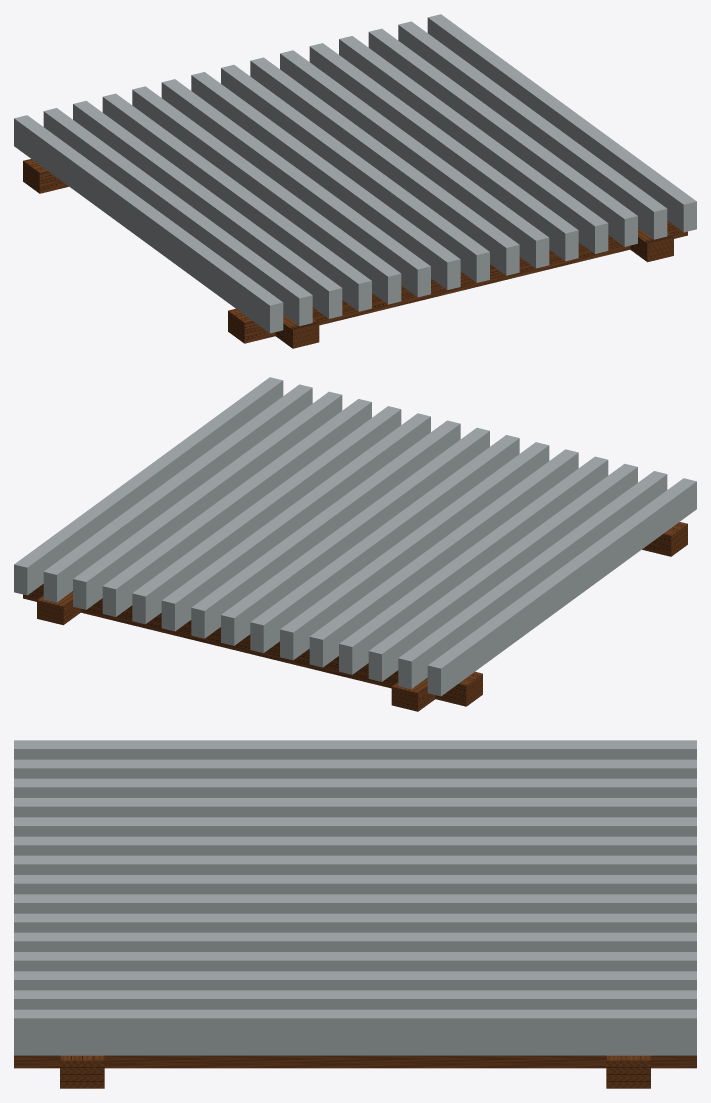
The model's file is modular-survival-base-builder-grated-floor-3e487fc0__24143.glb.
The picture shows the model from 3 angles, top to bottom: view 1: azimuth 30°, elevation 25°; view 2: azimuth 150°, elevation 25°; view 3: azimuth 270°, elevation 25°; orthographic projection. The views are drawn at different scales.
Visible parts, largest first — view 1: grated-floor; view 2: grated-floor; view 3: grated-floor.
Boxes of the visible parts, x1,y1,x2,y2 form: grated-floor: (14,14,696,348); grated-floor: (14,377,696,711); grated-floor: (14,740,696,1088).
Bounding box in the file's own units: 2 × 0.21 × 2.
2 materials, 1 textured.
